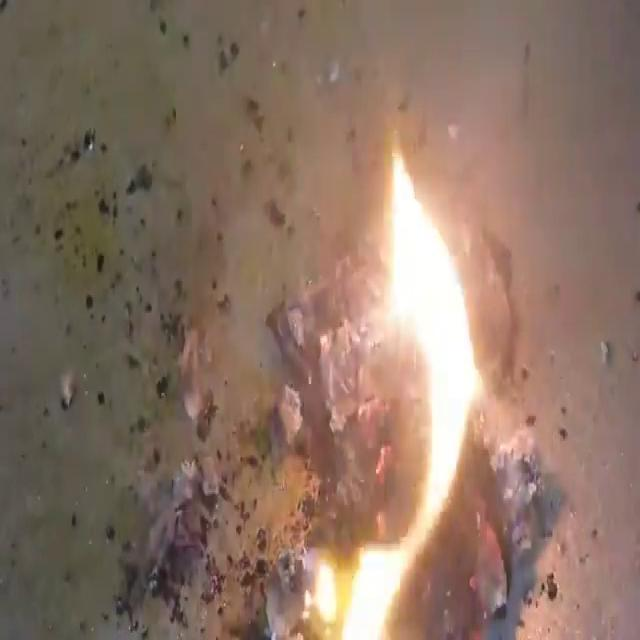Fire: (300, 135, 486, 637)
